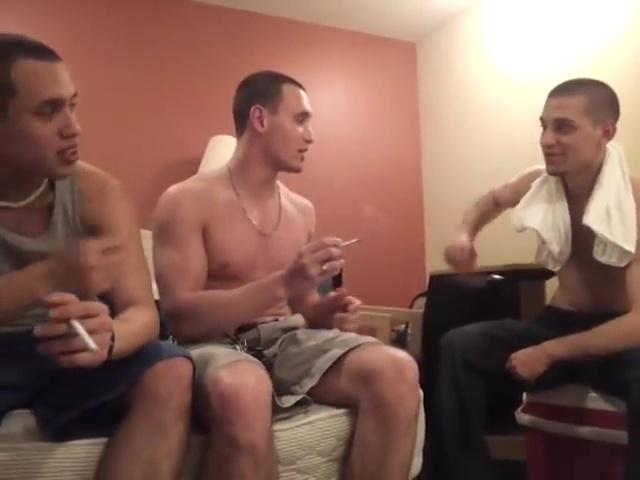cigarette: (68, 315, 101, 356), (334, 236, 365, 251)
